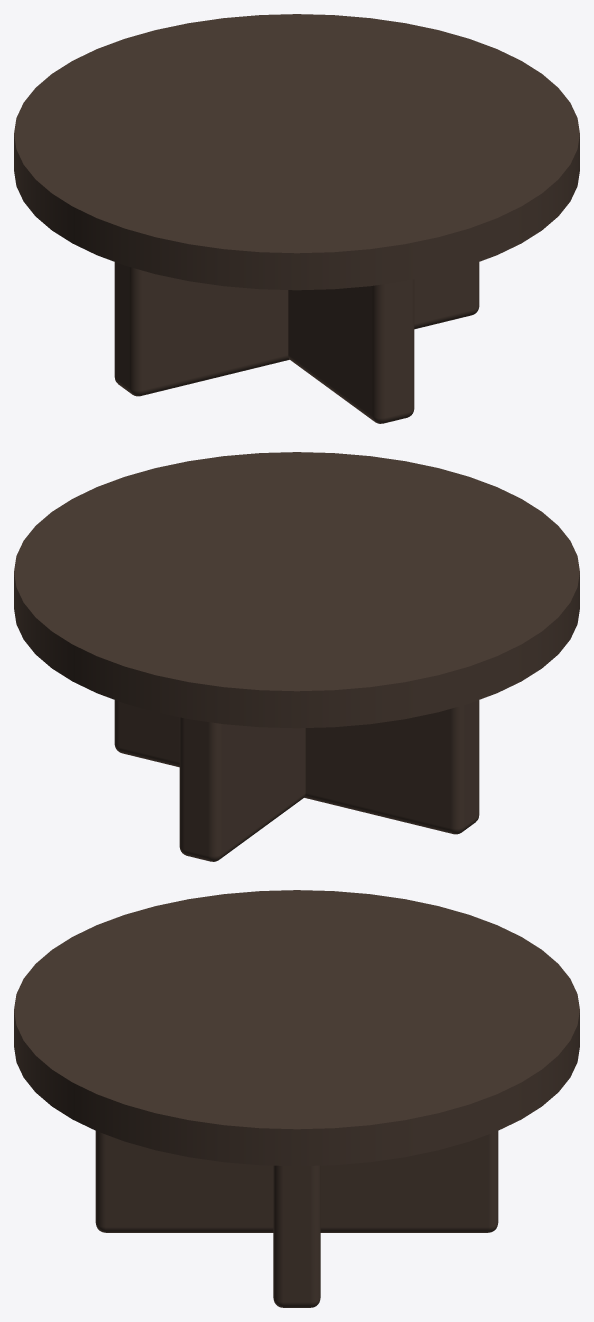
Rendered from orbit-table-espresso.glb.
3 renders of one model, top to bottom at view 1: azimuth 30°, elevation 25°; view 2: azimuth 150°, elevation 25°; view 3: azimuth 270°, elevation 25°, orthographic.
Parts seen in each view (by area): view 1: The Orbit Table — Espresso; view 2: The Orbit Table — Espresso; view 3: The Orbit Table — Espresso.
Part boxes in pixels (<box>): The Orbit Table — Espresso: <box>14,14,579,423</box>; The Orbit Table — Espresso: <box>14,452,579,861</box>; The Orbit Table — Espresso: <box>14,890,579,1307</box>.
Bounding box in the file's own units: 0.9 × 0.38 × 0.9.
